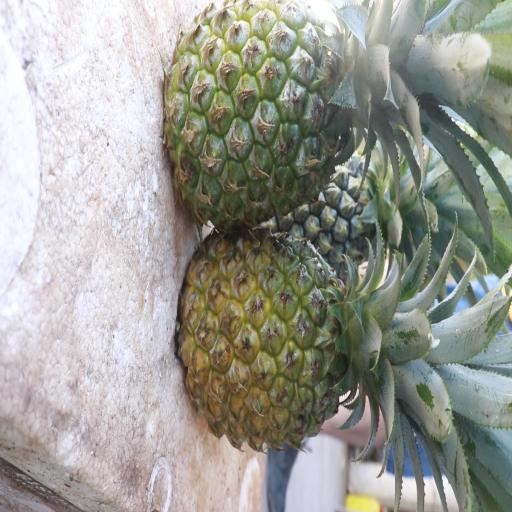------------------------------: (166, 1, 371, 224)
Pineapple - v8 v1: (184, 231, 396, 470)
